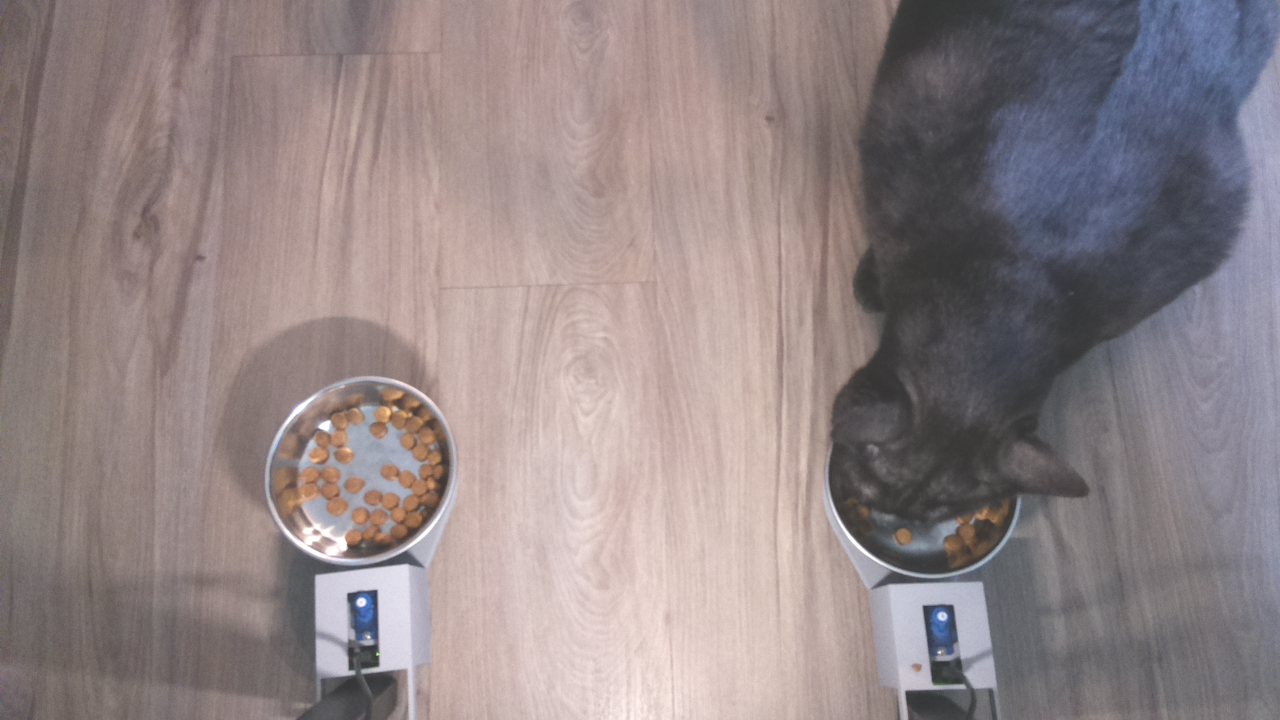open_bowl: (261, 370, 458, 569)
saki_eating: (806, 283, 1102, 589)
